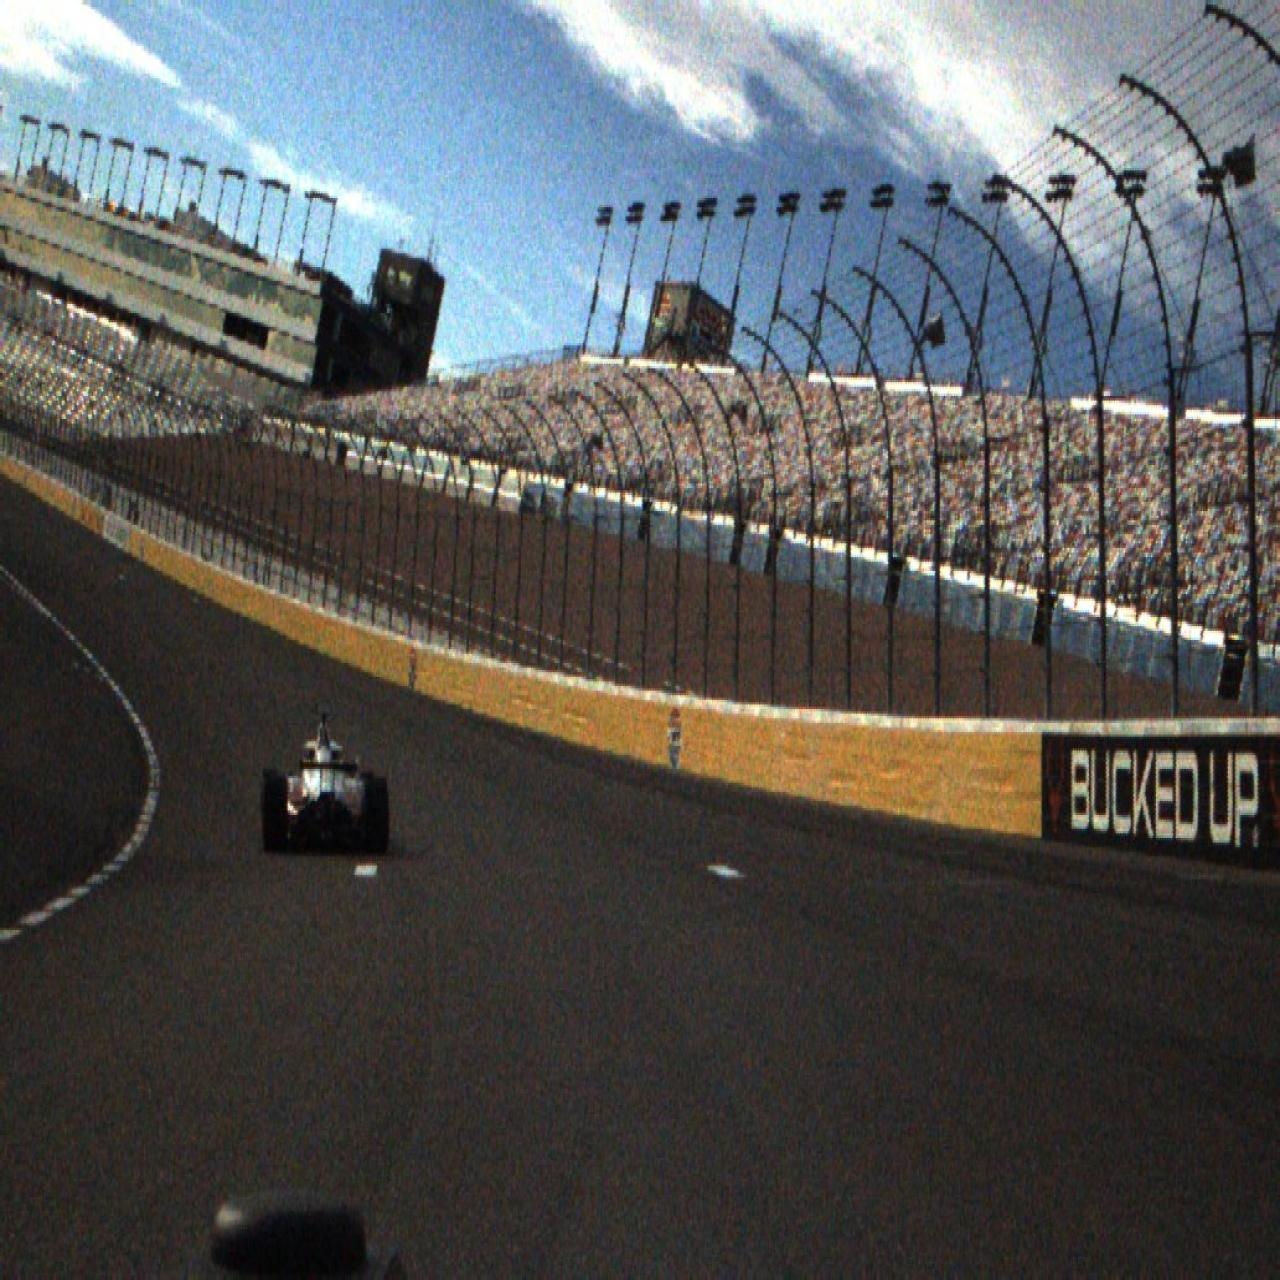AV: (260, 709, 390, 859)
Wheel: (363, 777, 390, 858), (262, 777, 288, 853)
